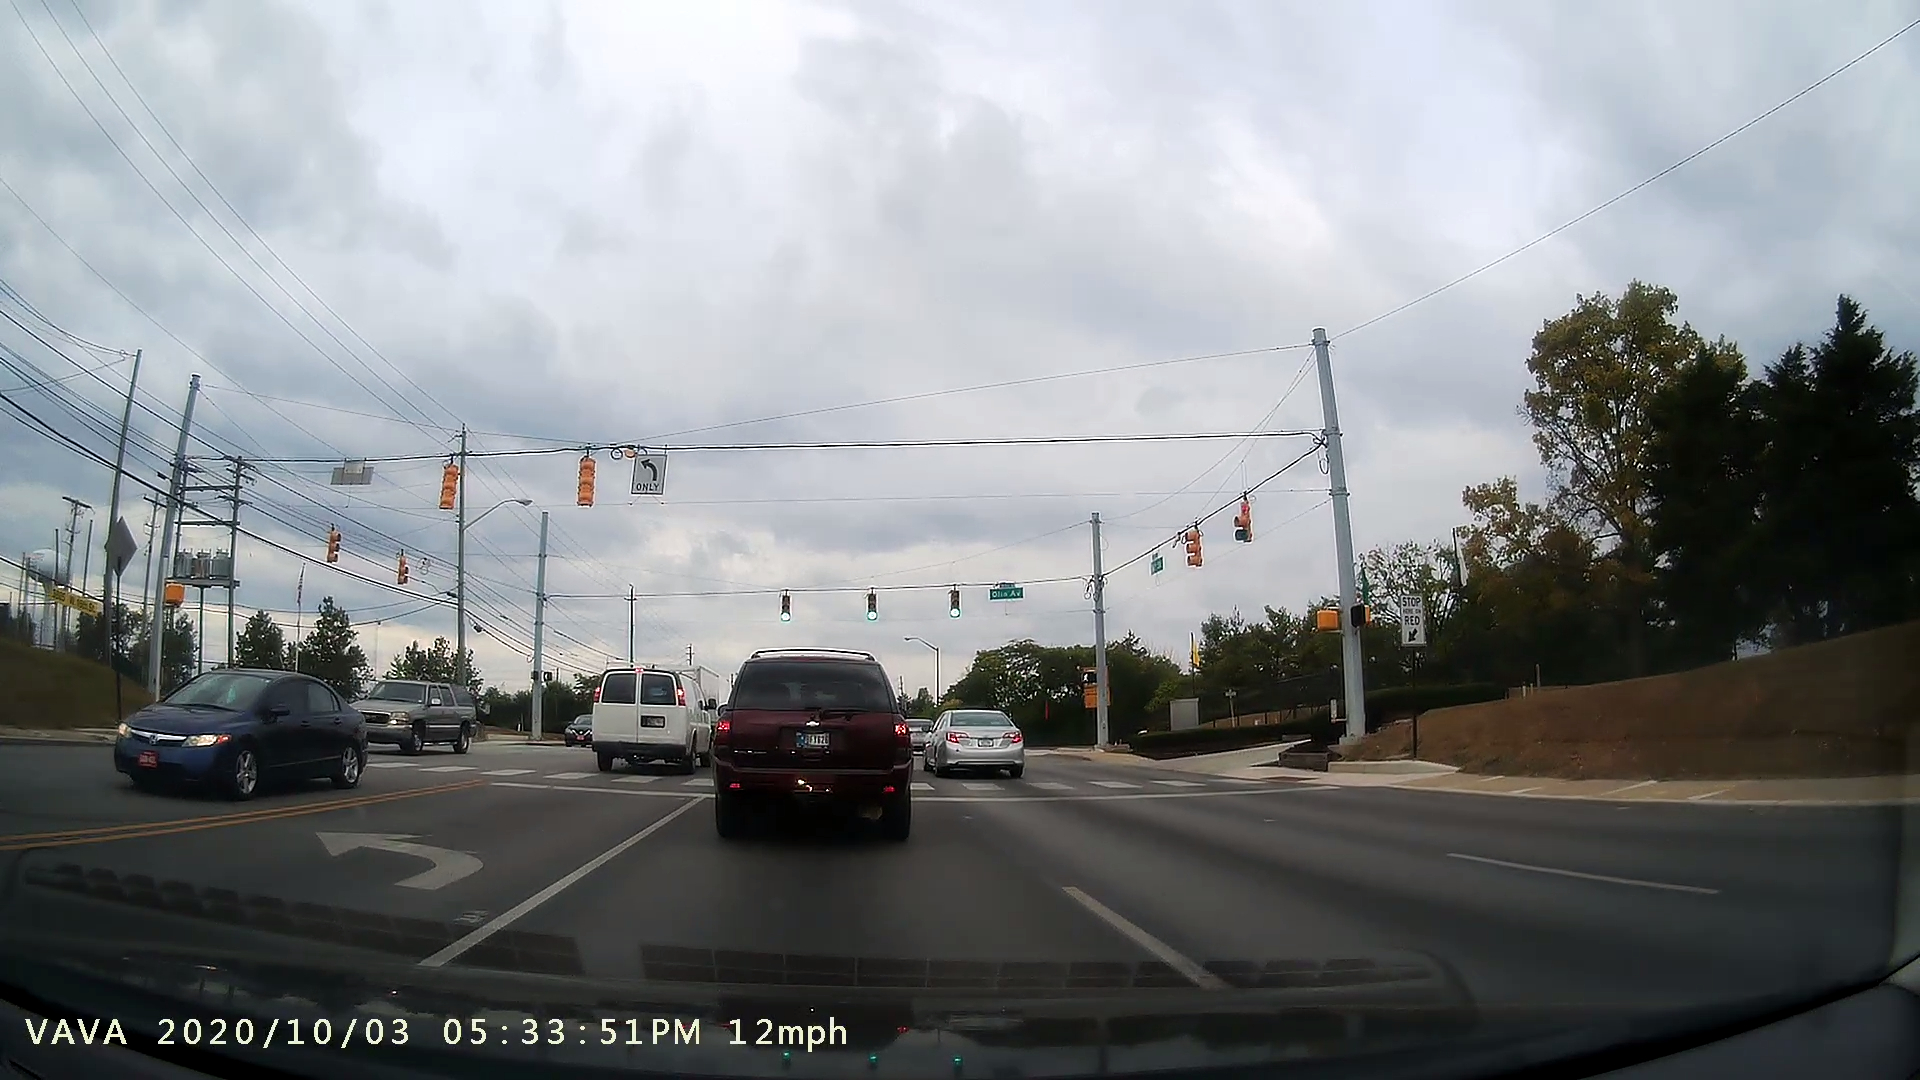left_turn: (305, 819, 493, 902)
